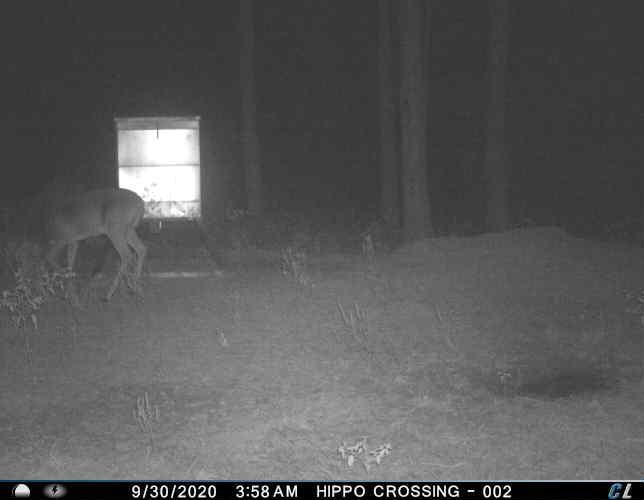Deer: (18, 184, 156, 309)
